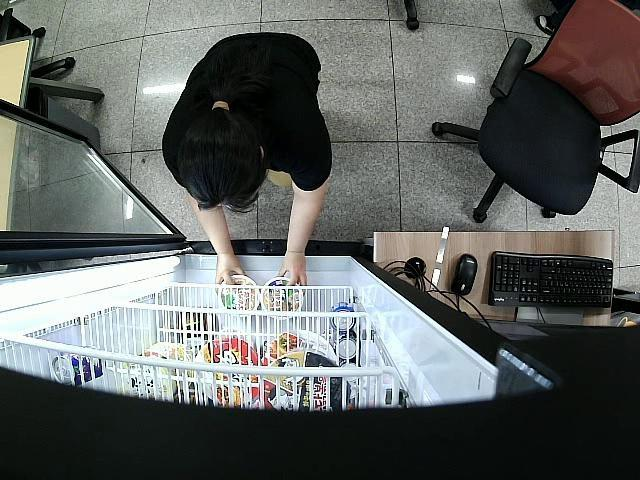09_yukGaeJang: (260, 277, 304, 320), (220, 276, 259, 319)
